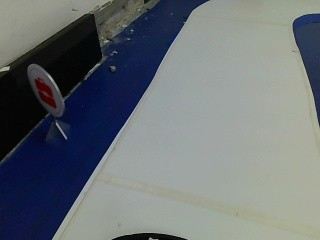company: (24, 63, 65, 118)
